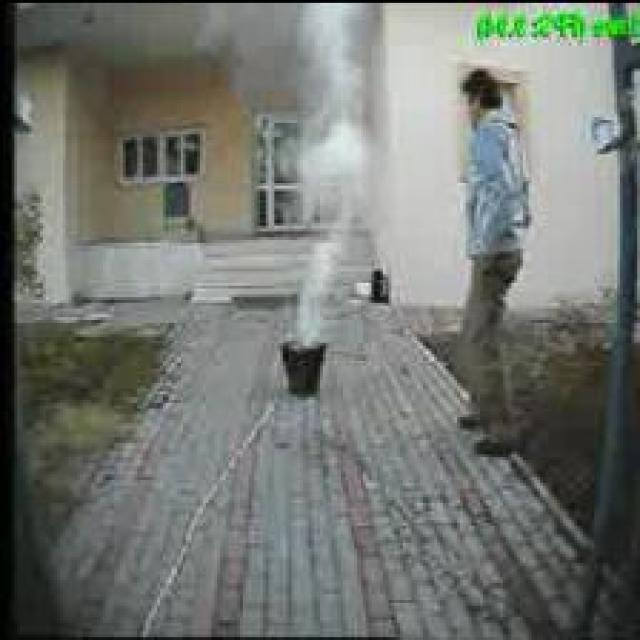Smoke: (219, 0, 386, 351)
